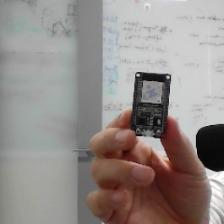wheel: (131, 69, 172, 139)
